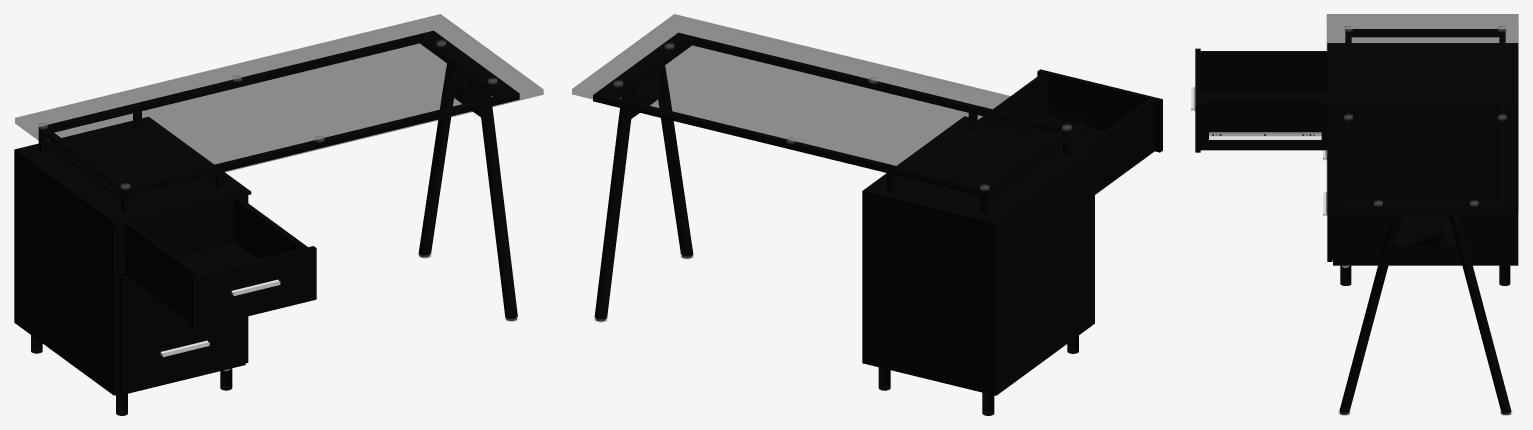
The model's file is escritorio.glb.
3 views of the same model, side by side, from view 1: azimuth 30°, elevation 25°; view 2: azimuth 150°, elevation 25°; view 3: azimuth 270°, elevation 25° (orthographic). The views are drawn at different scales.
Visible parts, largest first — view 1: Plane.001_19, CajonGrande_4, Cajon1_7, FierroSuperior_9, Cajon3_2, Cylinder_10, Cajon2_5; view 2: CajonGrande_4, Plane.001_19, FierroSuperior_9, Cajon1_7, Cylinder_10; view 3: Plane.001_19, CajonGrande_4, Cajon1_7, Cylinder_10, FierroSuperior_9, Corredoras_11, Cajon3_2, Cajon2_5.
Boxes of the visible parts, left/top/right/bottom form: Plane.001_19: left=15, top=14, right=543, bottom=198; CajonGrande_4: left=14, top=117, right=251, bottom=415; Cajon1_7: left=124, top=197, right=316, bottom=329; FierroSuperior_9: left=38, top=30, right=519, bottom=212; Cajon3_2: left=119, top=316, right=245, bottom=394; Cylinder_10: left=418, top=63, right=518, bottom=321; Cajon2_5: left=119, top=225, right=181, bottom=330; CajonGrande_4: left=862, top=116, right=1097, bottom=415; Plane.001_19: left=572, top=14, right=1097, bottom=197; FierroSuperior_9: left=593, top=32, right=1071, bottom=213; Cajon1_7: left=979, top=69, right=1162, bottom=194; Cylinder_10: left=594, top=65, right=693, bottom=322; Plane.001_19: left=1326, top=14, right=1518, bottom=212; CajonGrande_4: left=1327, top=43, right=1518, bottom=285; Cajon1_7: left=1195, top=48, right=1332, bottom=152; Cylinder_10: left=1338, top=214, right=1512, bottom=415; FierroSuperior_9: left=1345, top=29, right=1505, bottom=214; Corredoras_11: left=1209, top=132, right=1321, bottom=139; Cajon3_2: left=1327, top=200, right=1332, bottom=261; Cajon2_5: left=1327, top=150, right=1332, bottom=201.
Size of the model in its own units: 14.28 by 7.4 by 10.18.
Materials: 9 (1 with a texture image).
